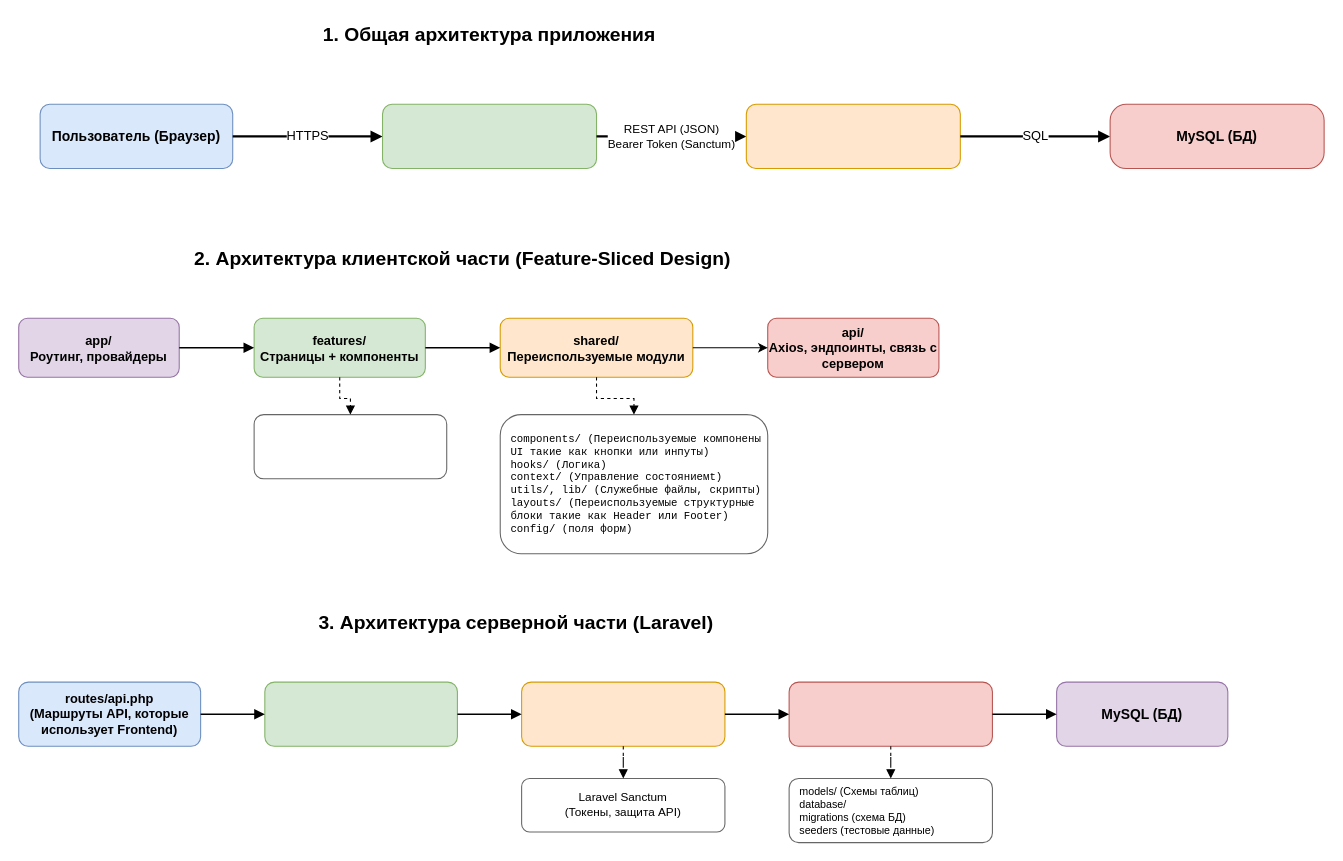
This 1343x861 diagram has some shape labels left out. The shapes that lost their labels are listed below. From the top down, each one's centre as x and y in pixels, then its label:
At point 489,136: "React (Frontend) Axios, React Router".
At point 852,136: "Laravel (Backend) PHP, Sanctum".
At point 350,446: "в каждой фиче: pages/ (страница) components/ (компоненты)".
At point 360,713: "Middleware (Проверка ролей)".
At point 623,713: "Controllers (Логика обработки серверных запросов)".
At point 890,713: "Models, Migrations, Seeders (Связь с БД)".
